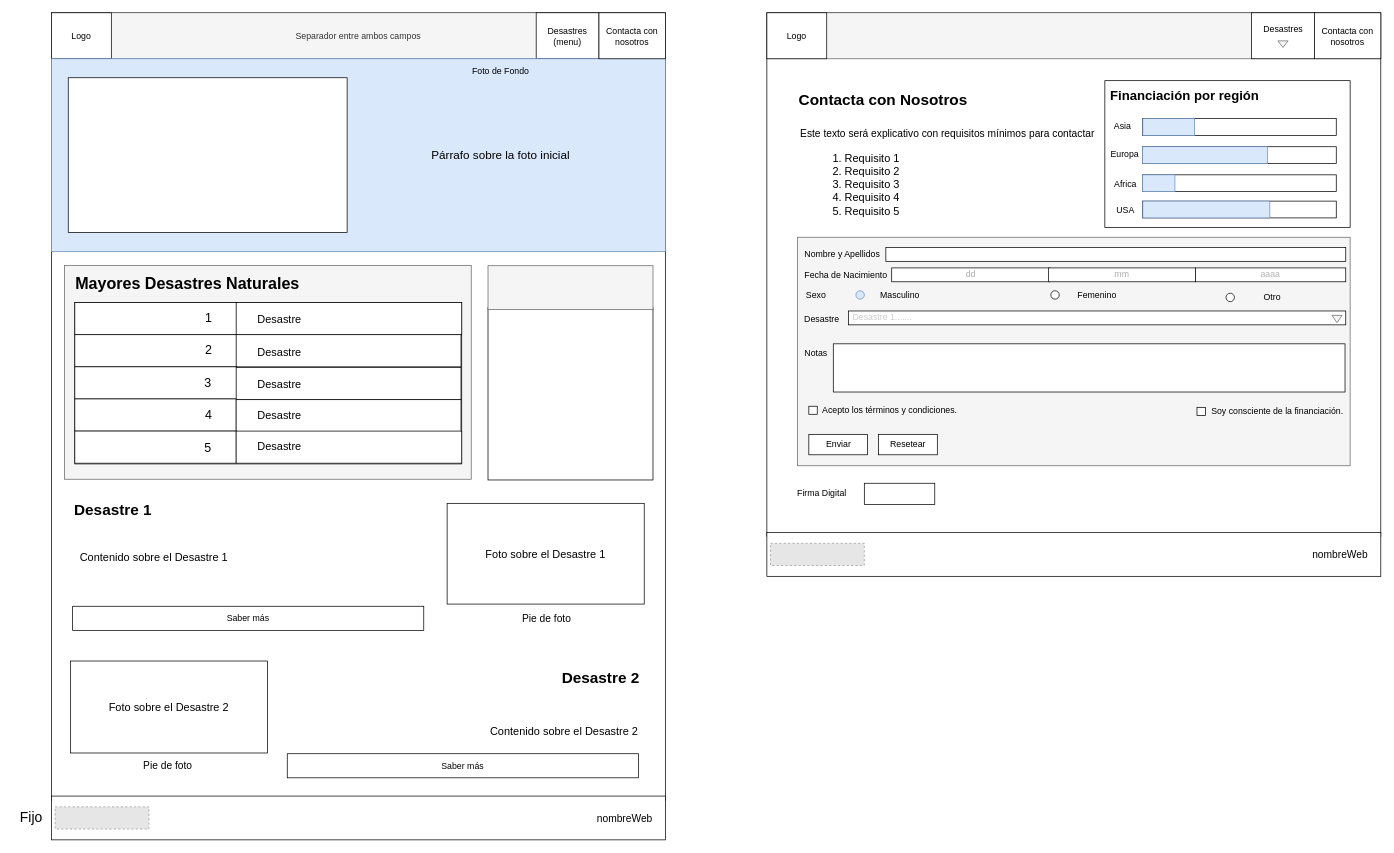
The diagram is 1394 pixels wide and 853 high, and some of its shapes have lost their labels. Grey dashed boxes stand in for pictures. Here are the shapes that lost their labels. From the top down, the centre of each, then its label:
the point at 207,155: Foto Inicial
the point at 570,287: Información sobre Desastres Naturales
the point at 570,393: Calor extremo Huracanes Tormentas Tsunami Frío intenso ETC
the point at 899,493: Botón Enlace
